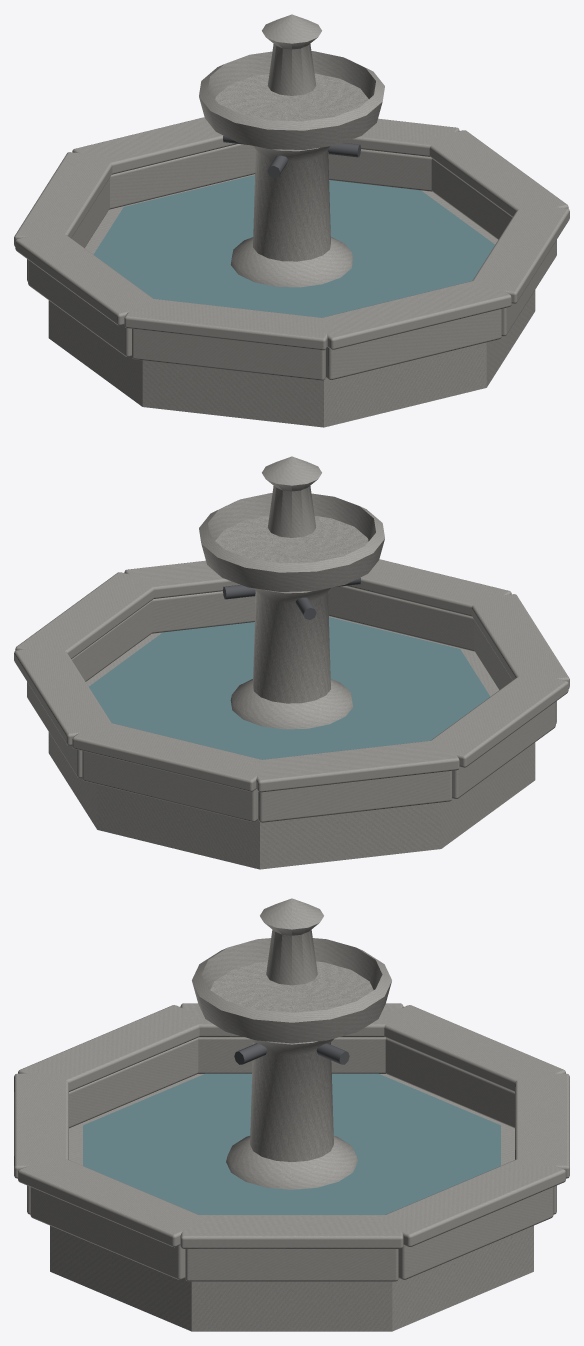
File: TownFountain_CC0.glb
3 renders of one model, top to bottom at view 1: azimuth 30°, elevation 25°; view 2: azimuth 150°, elevation 25°; view 3: azimuth 270°, elevation 25°, orthographic. The views are drawn at different scales.
Parts seen in each view (by area): view 1: octagonal-fountain; view 2: octagonal-fountain; view 3: octagonal-fountain.
Boxes of the visible parts, x1,y1,x2,y2 form: octagonal-fountain: [14, 14, 569, 427]; octagonal-fountain: [14, 456, 569, 869]; octagonal-fountain: [14, 898, 569, 1331].
Size of the model in its own units: 3.44 by 2.26 by 3.44.
3 materials, 1 textured.
